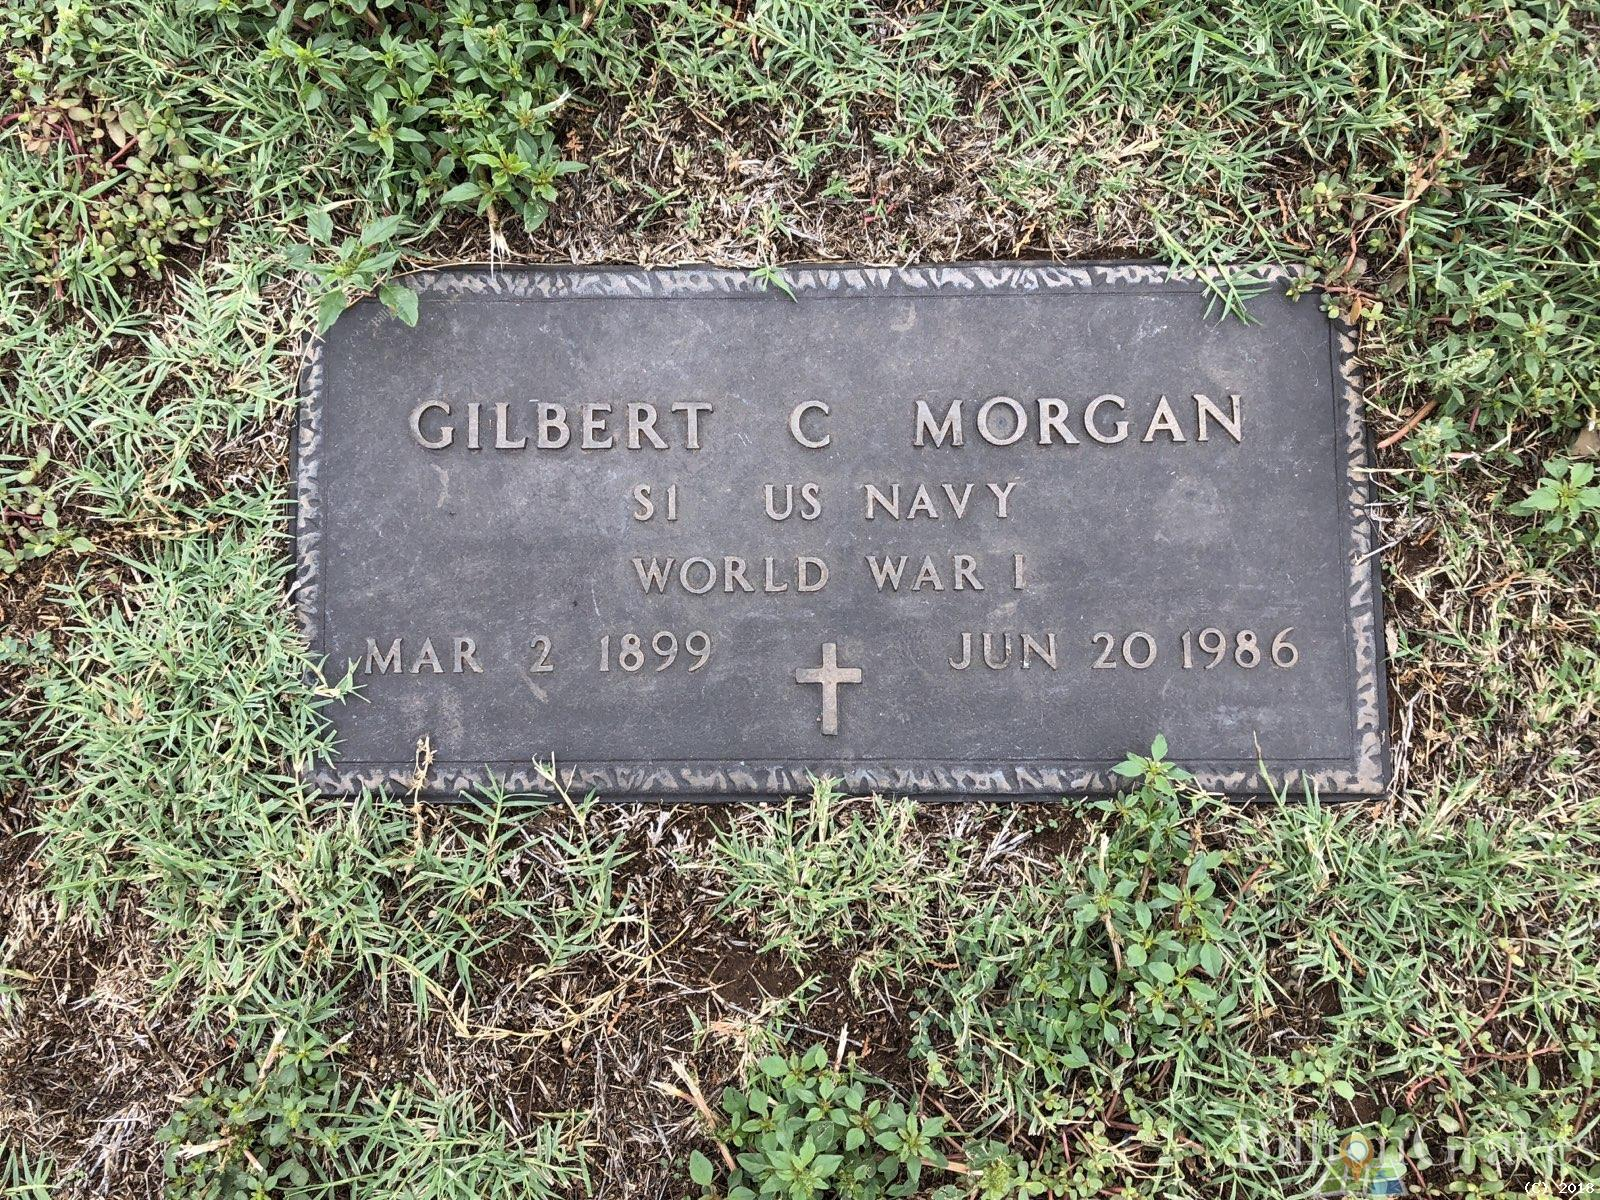flat: (265, 268, 1395, 833)
